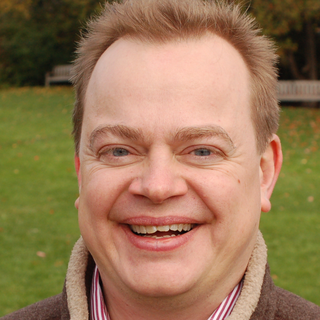eye: (174, 140, 230, 166), (95, 141, 149, 164)
